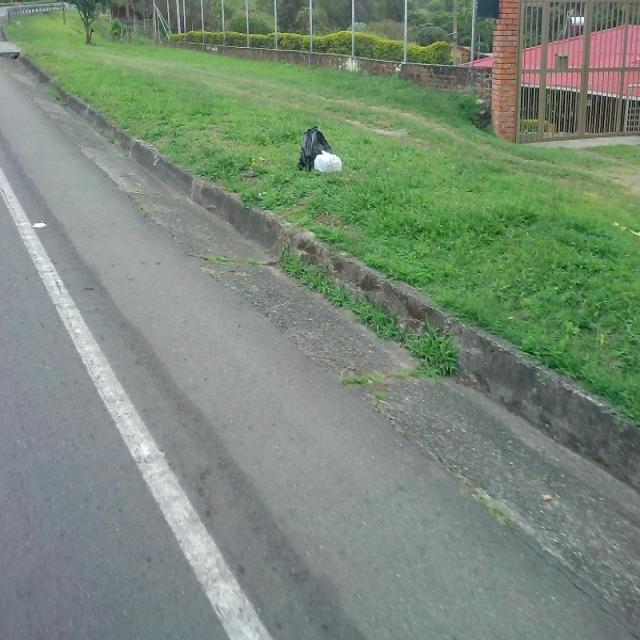DITCH: (1, 37, 638, 637)
